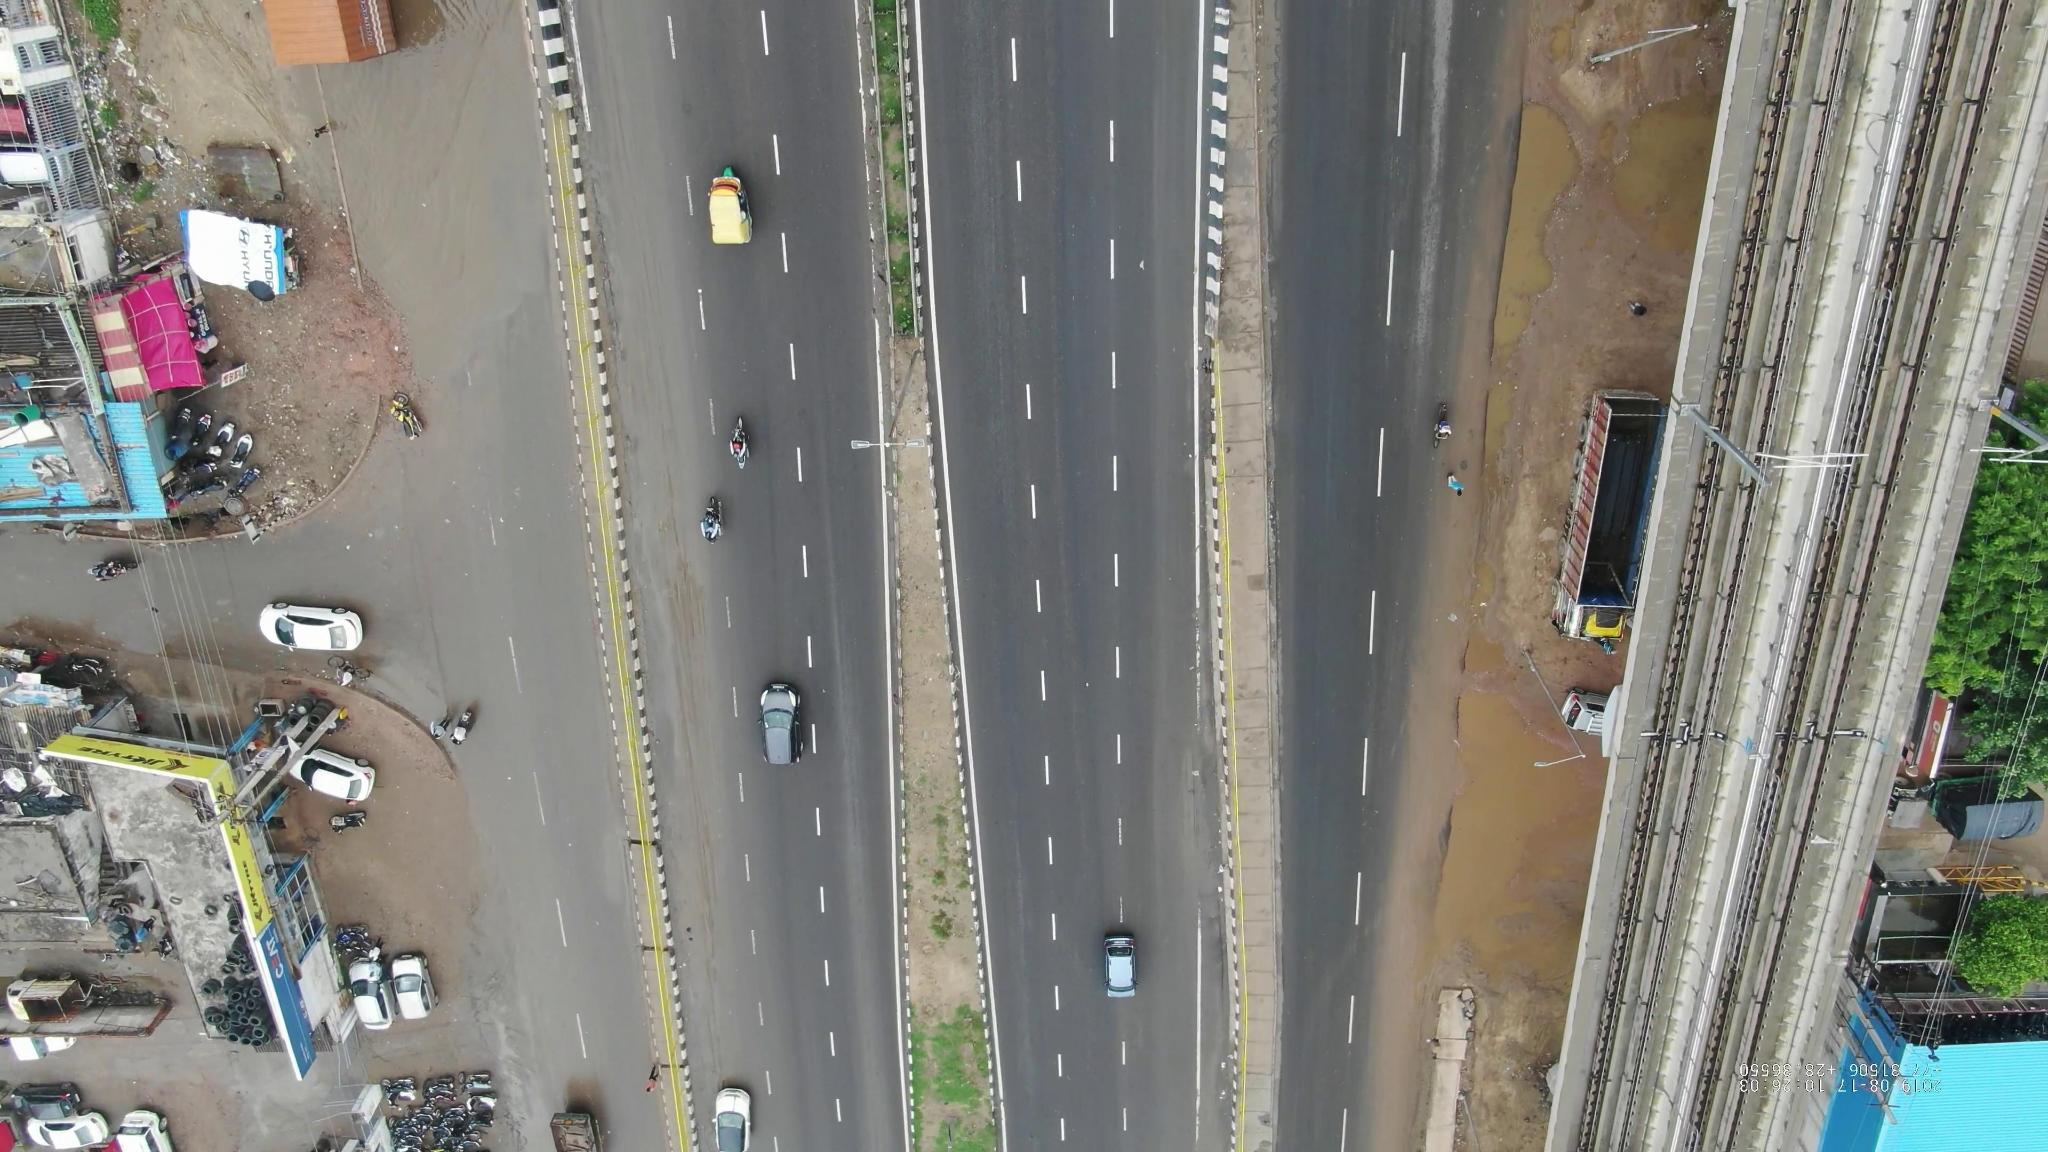Muddy_road: (647, 536, 729, 782), (675, 800, 740, 1041)
Waterlogging: (1490, 96, 1589, 371), (1438, 672, 1539, 940)
